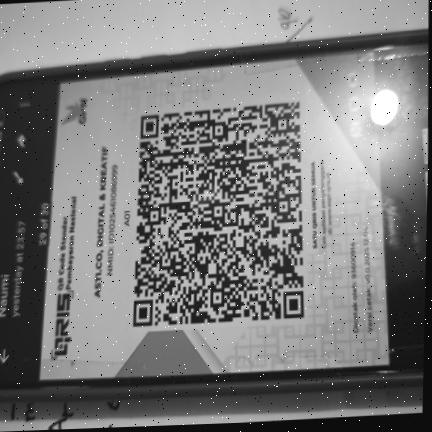Cara Pakai QRIS: (45, 189, 85, 365), (338, 54, 376, 156)
Cek Aplikasi Penyelenggara: (318, 155, 335, 252)
Dicetak Oleh: (346, 232, 360, 341)
Logo GPN: (59, 92, 92, 130)
Nama Merchant: (90, 142, 110, 302)
National Merchant ID: (104, 139, 121, 301)
QR Code: (128, 95, 308, 335)
Slogan: (308, 157, 319, 253)
Terminal ID: (121, 199, 133, 235)
Versi Cetak: (358, 219, 376, 341)
